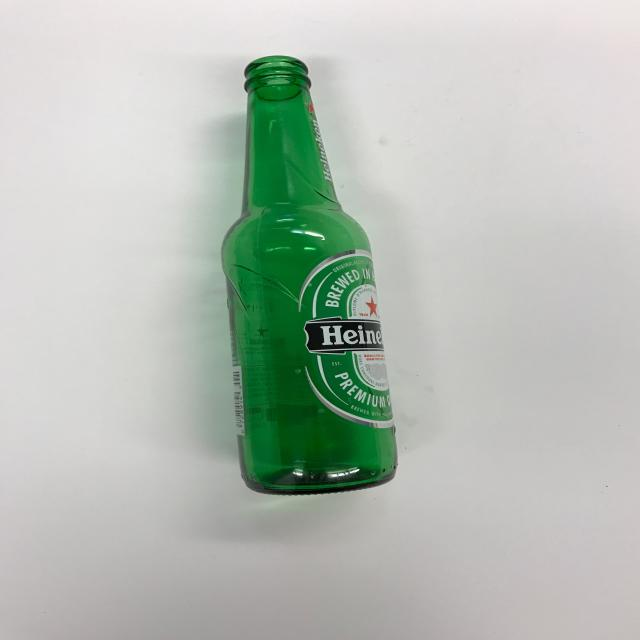glass: (220, 54, 399, 495)
